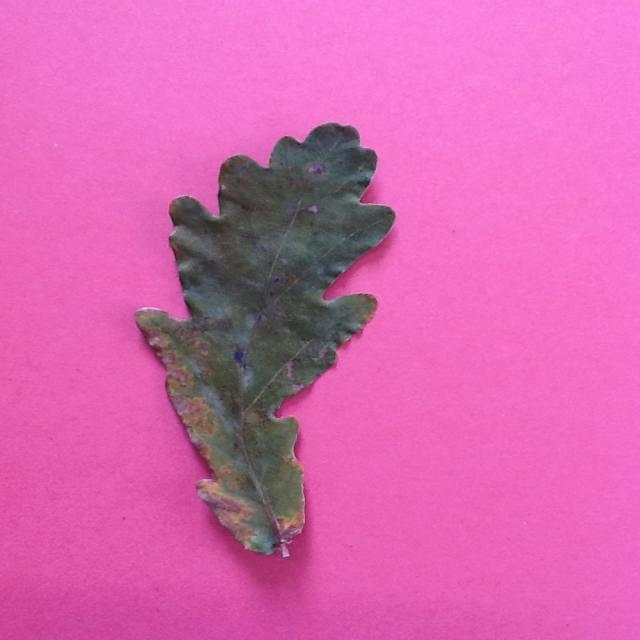foliage: (132, 119, 400, 568)
